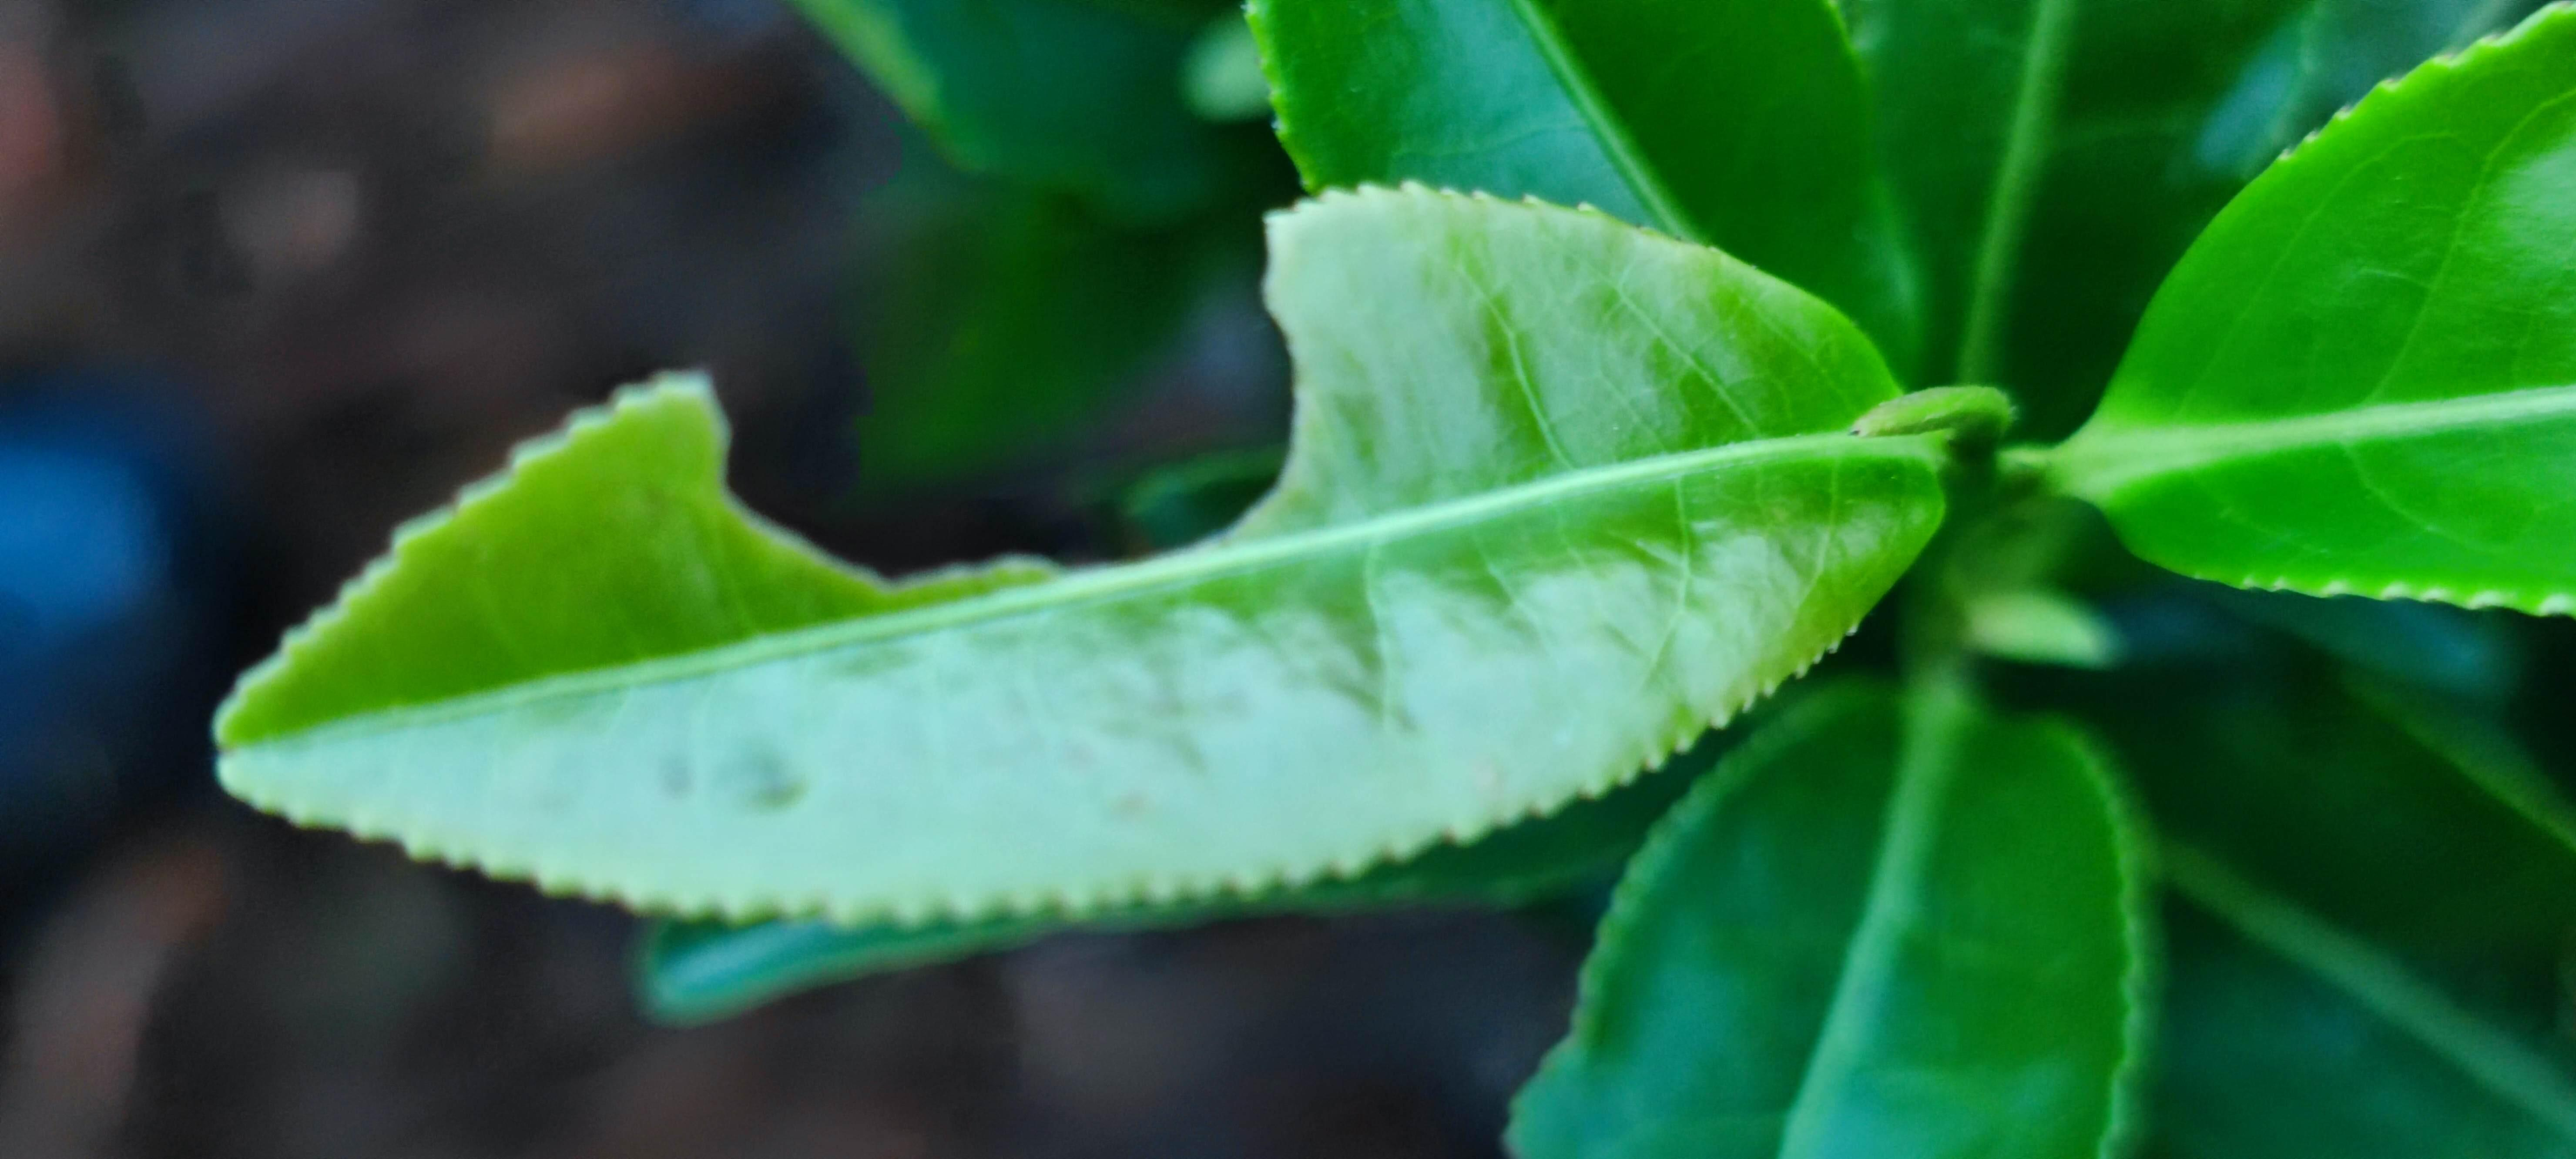chihuo_low: (212, 179, 1955, 937)
healthy: (1495, 675, 2157, 1152), (2067, 5, 2576, 625)
